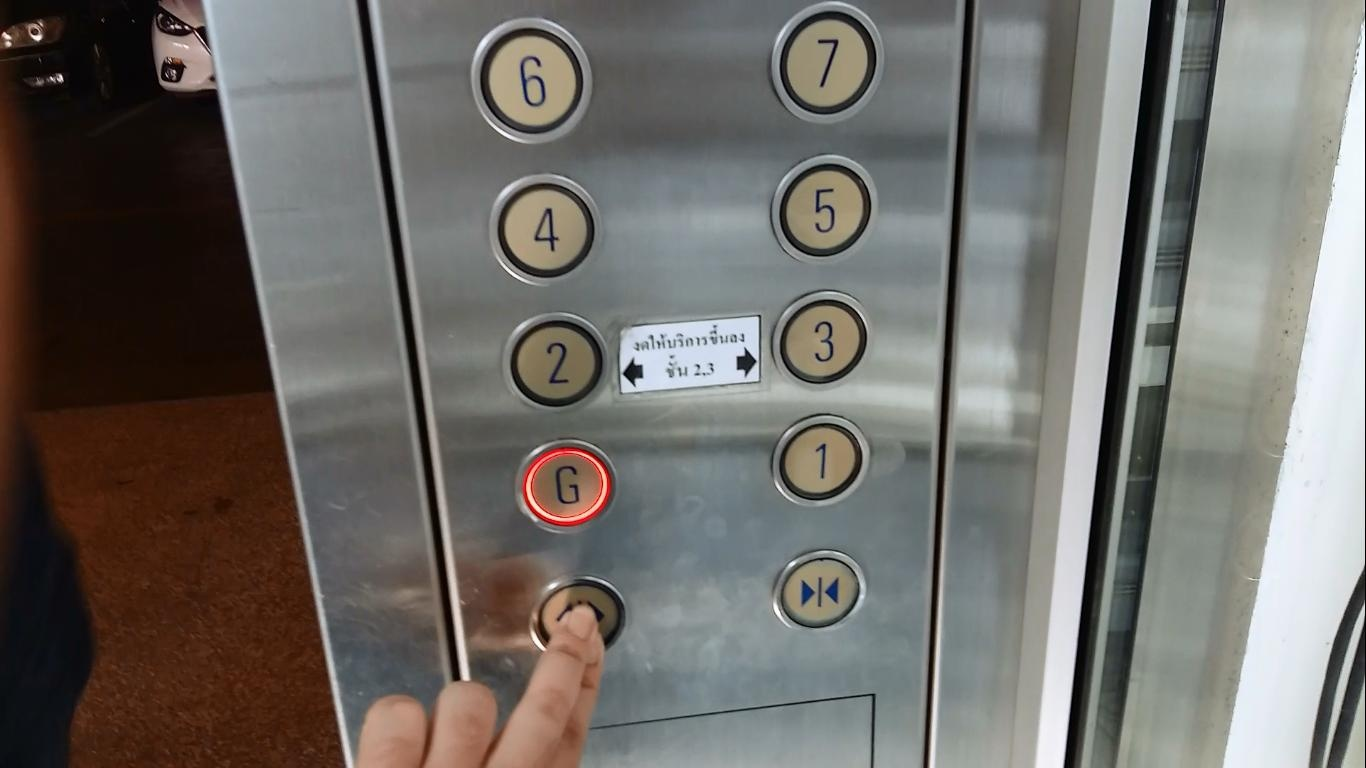1: (769, 408, 876, 513)
2: (500, 308, 612, 413)
3: (771, 283, 876, 392)
4: (482, 170, 608, 291)
5: (766, 151, 882, 269)
6: (466, 12, 598, 147)
7: (768, 1, 888, 127)
G: (511, 435, 620, 537)
close: (769, 544, 869, 636)
